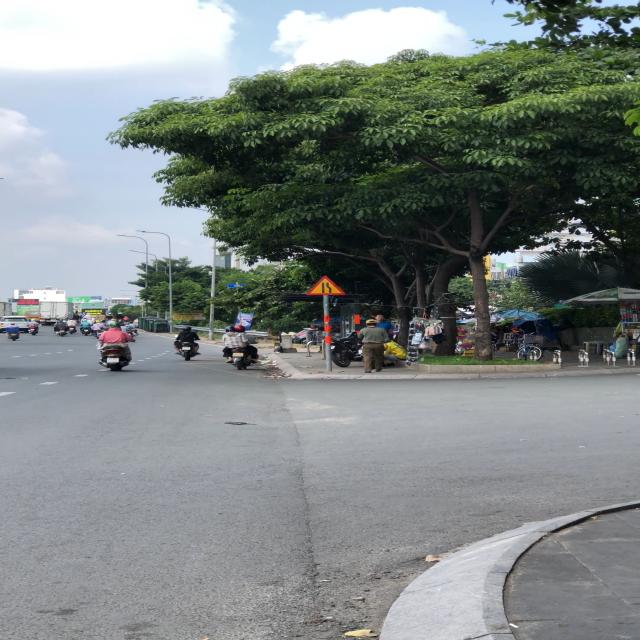Bien bao duong bi thu hep: (304, 274, 348, 296)
